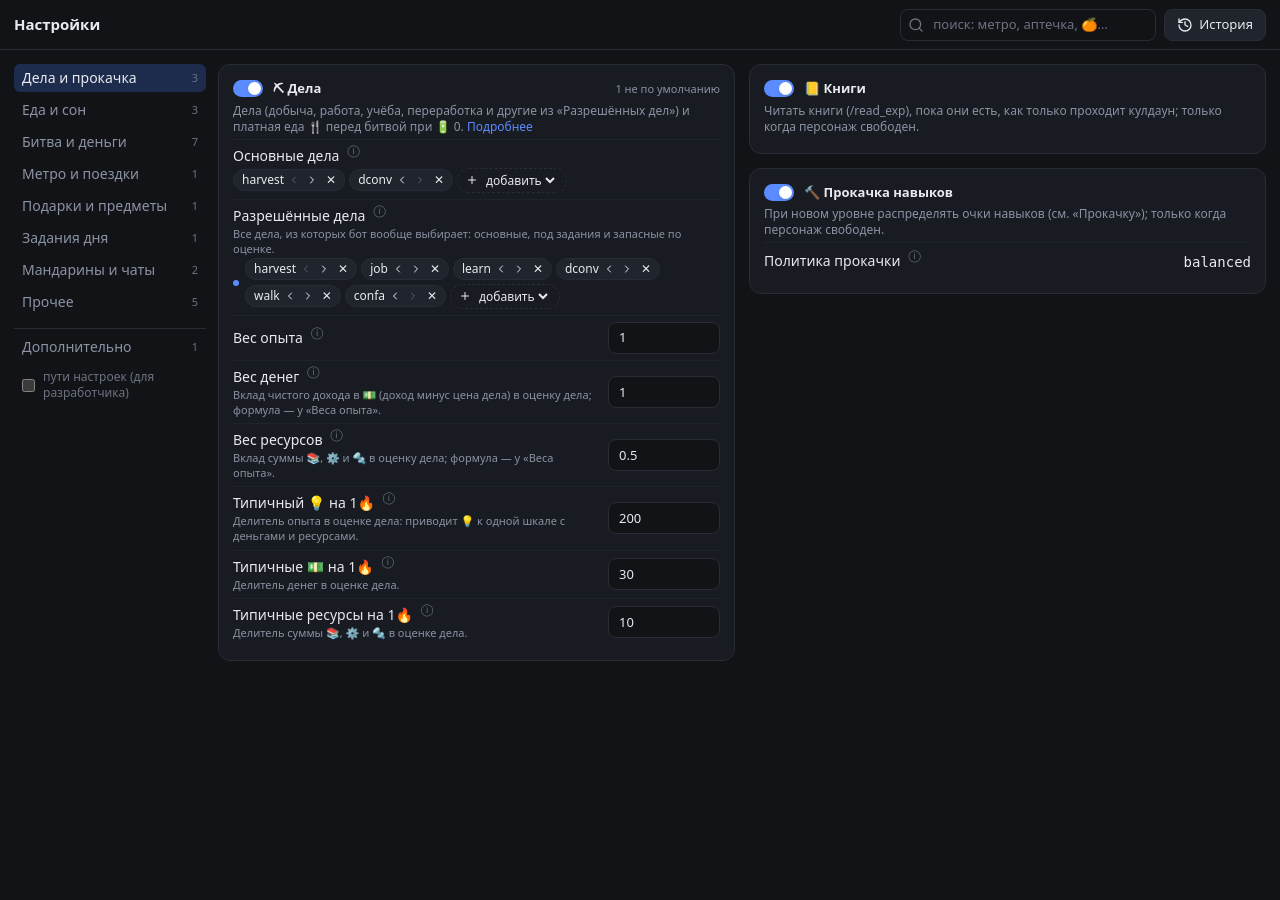
it: Настройки › «Движок»: поля по типам, kill и пауза — только на главной
Click the button "Дополнительно 1": (110, 347) [14,333,206,361]
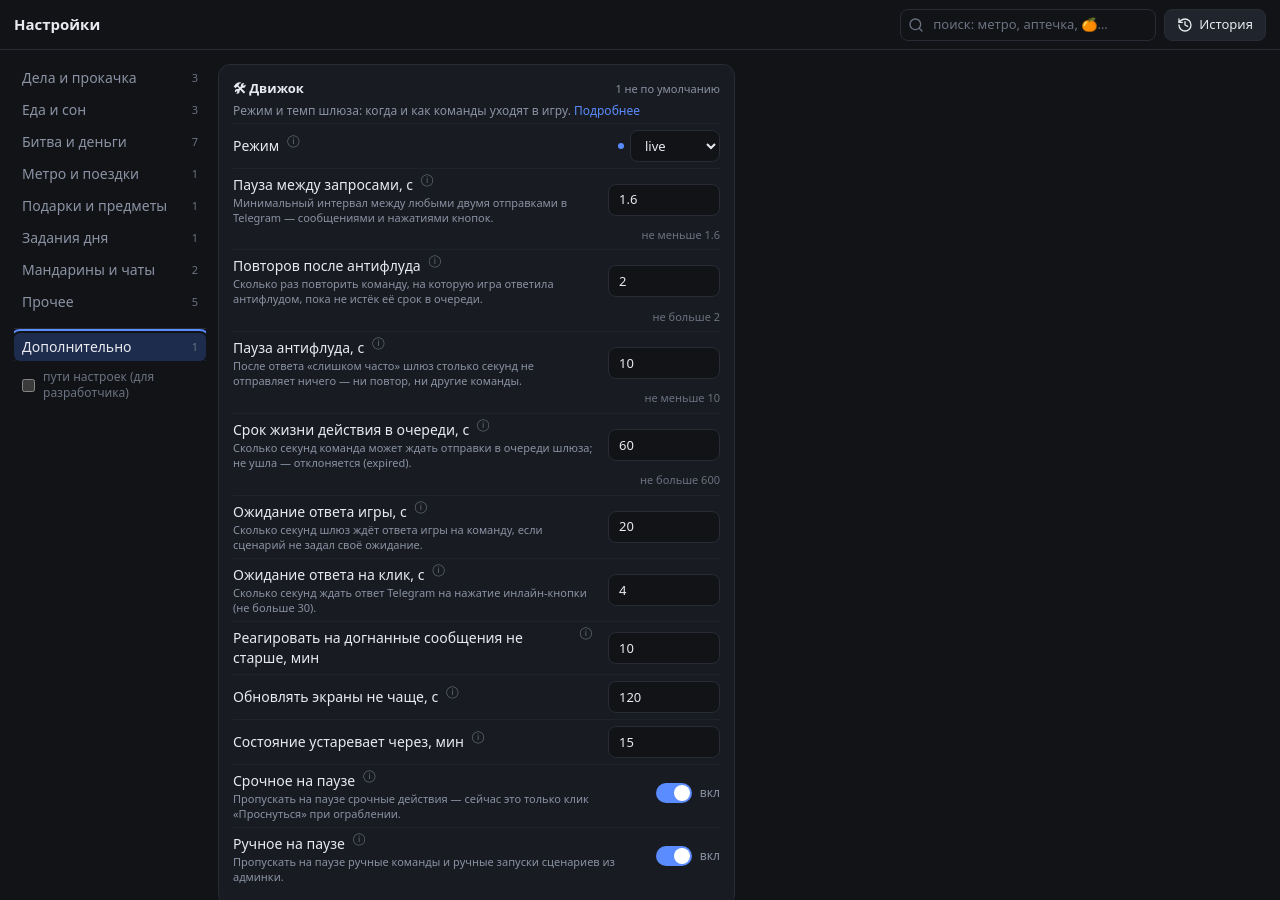
Expected: the dropdown labelled "Режим" shows "live", [630,130,720,162]
Expected: the element "Движок" shows "Режим и темп шлюза", [233,102,574,118]
Click the button "Подробнее": (607, 110) [574,102,640,118]
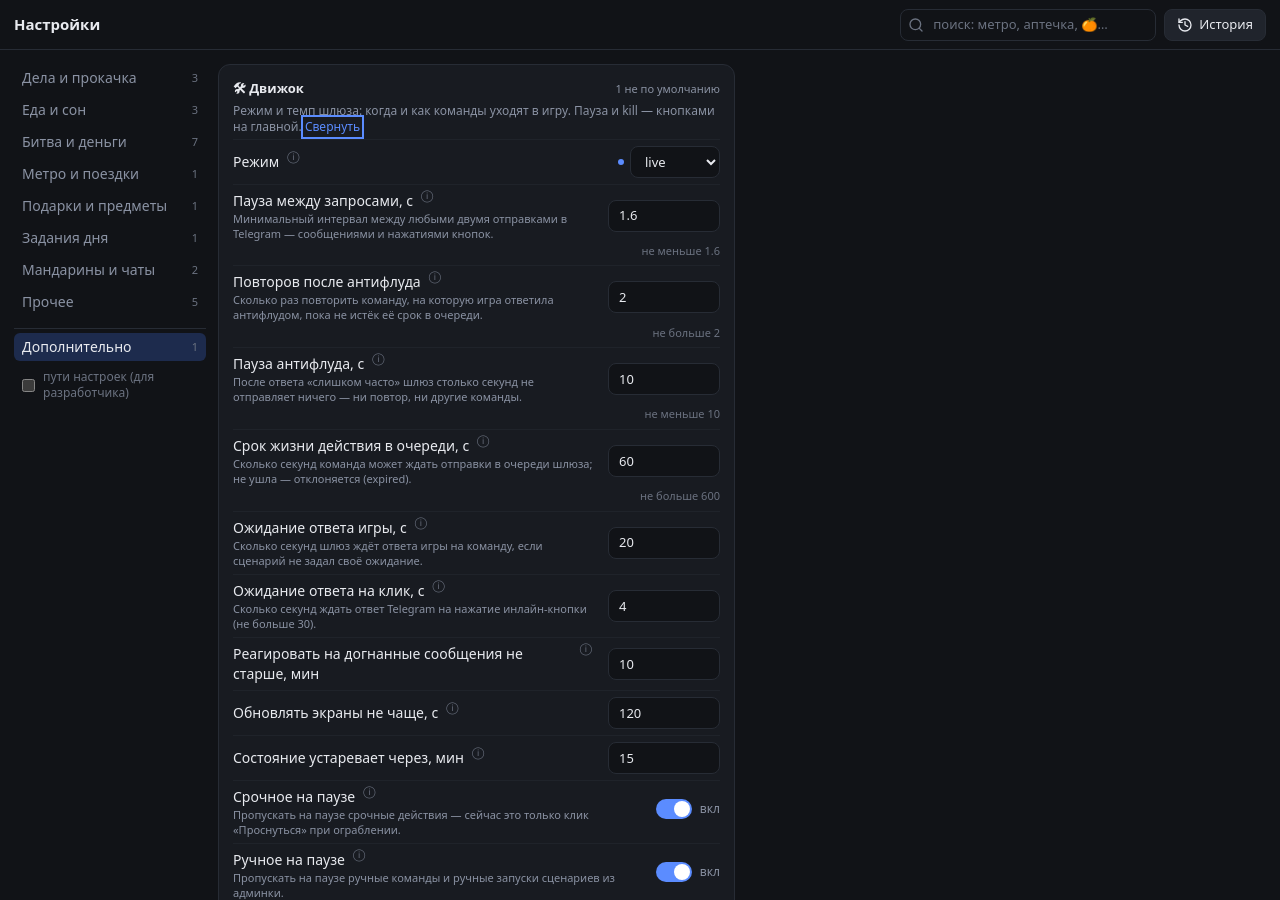
Click the button "Дела и прокачка 3": (110, 78) [14,64,206,92]
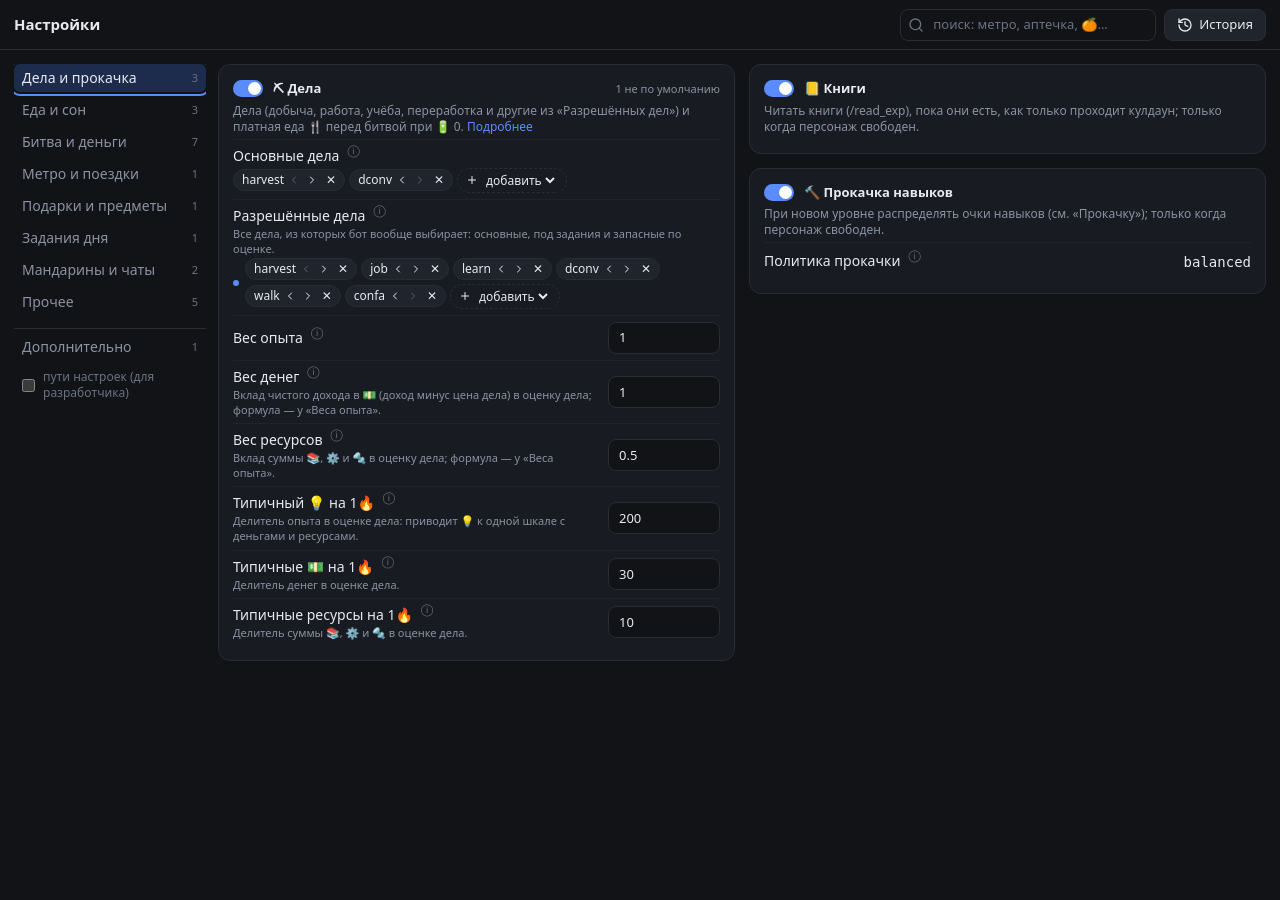
Expected: the element named "Основные дела" shows "harvest", [242,171,284,188]
